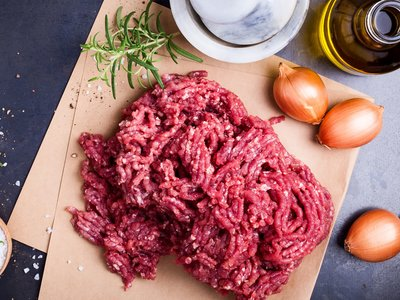ground_beef: (75, 84, 325, 293)
